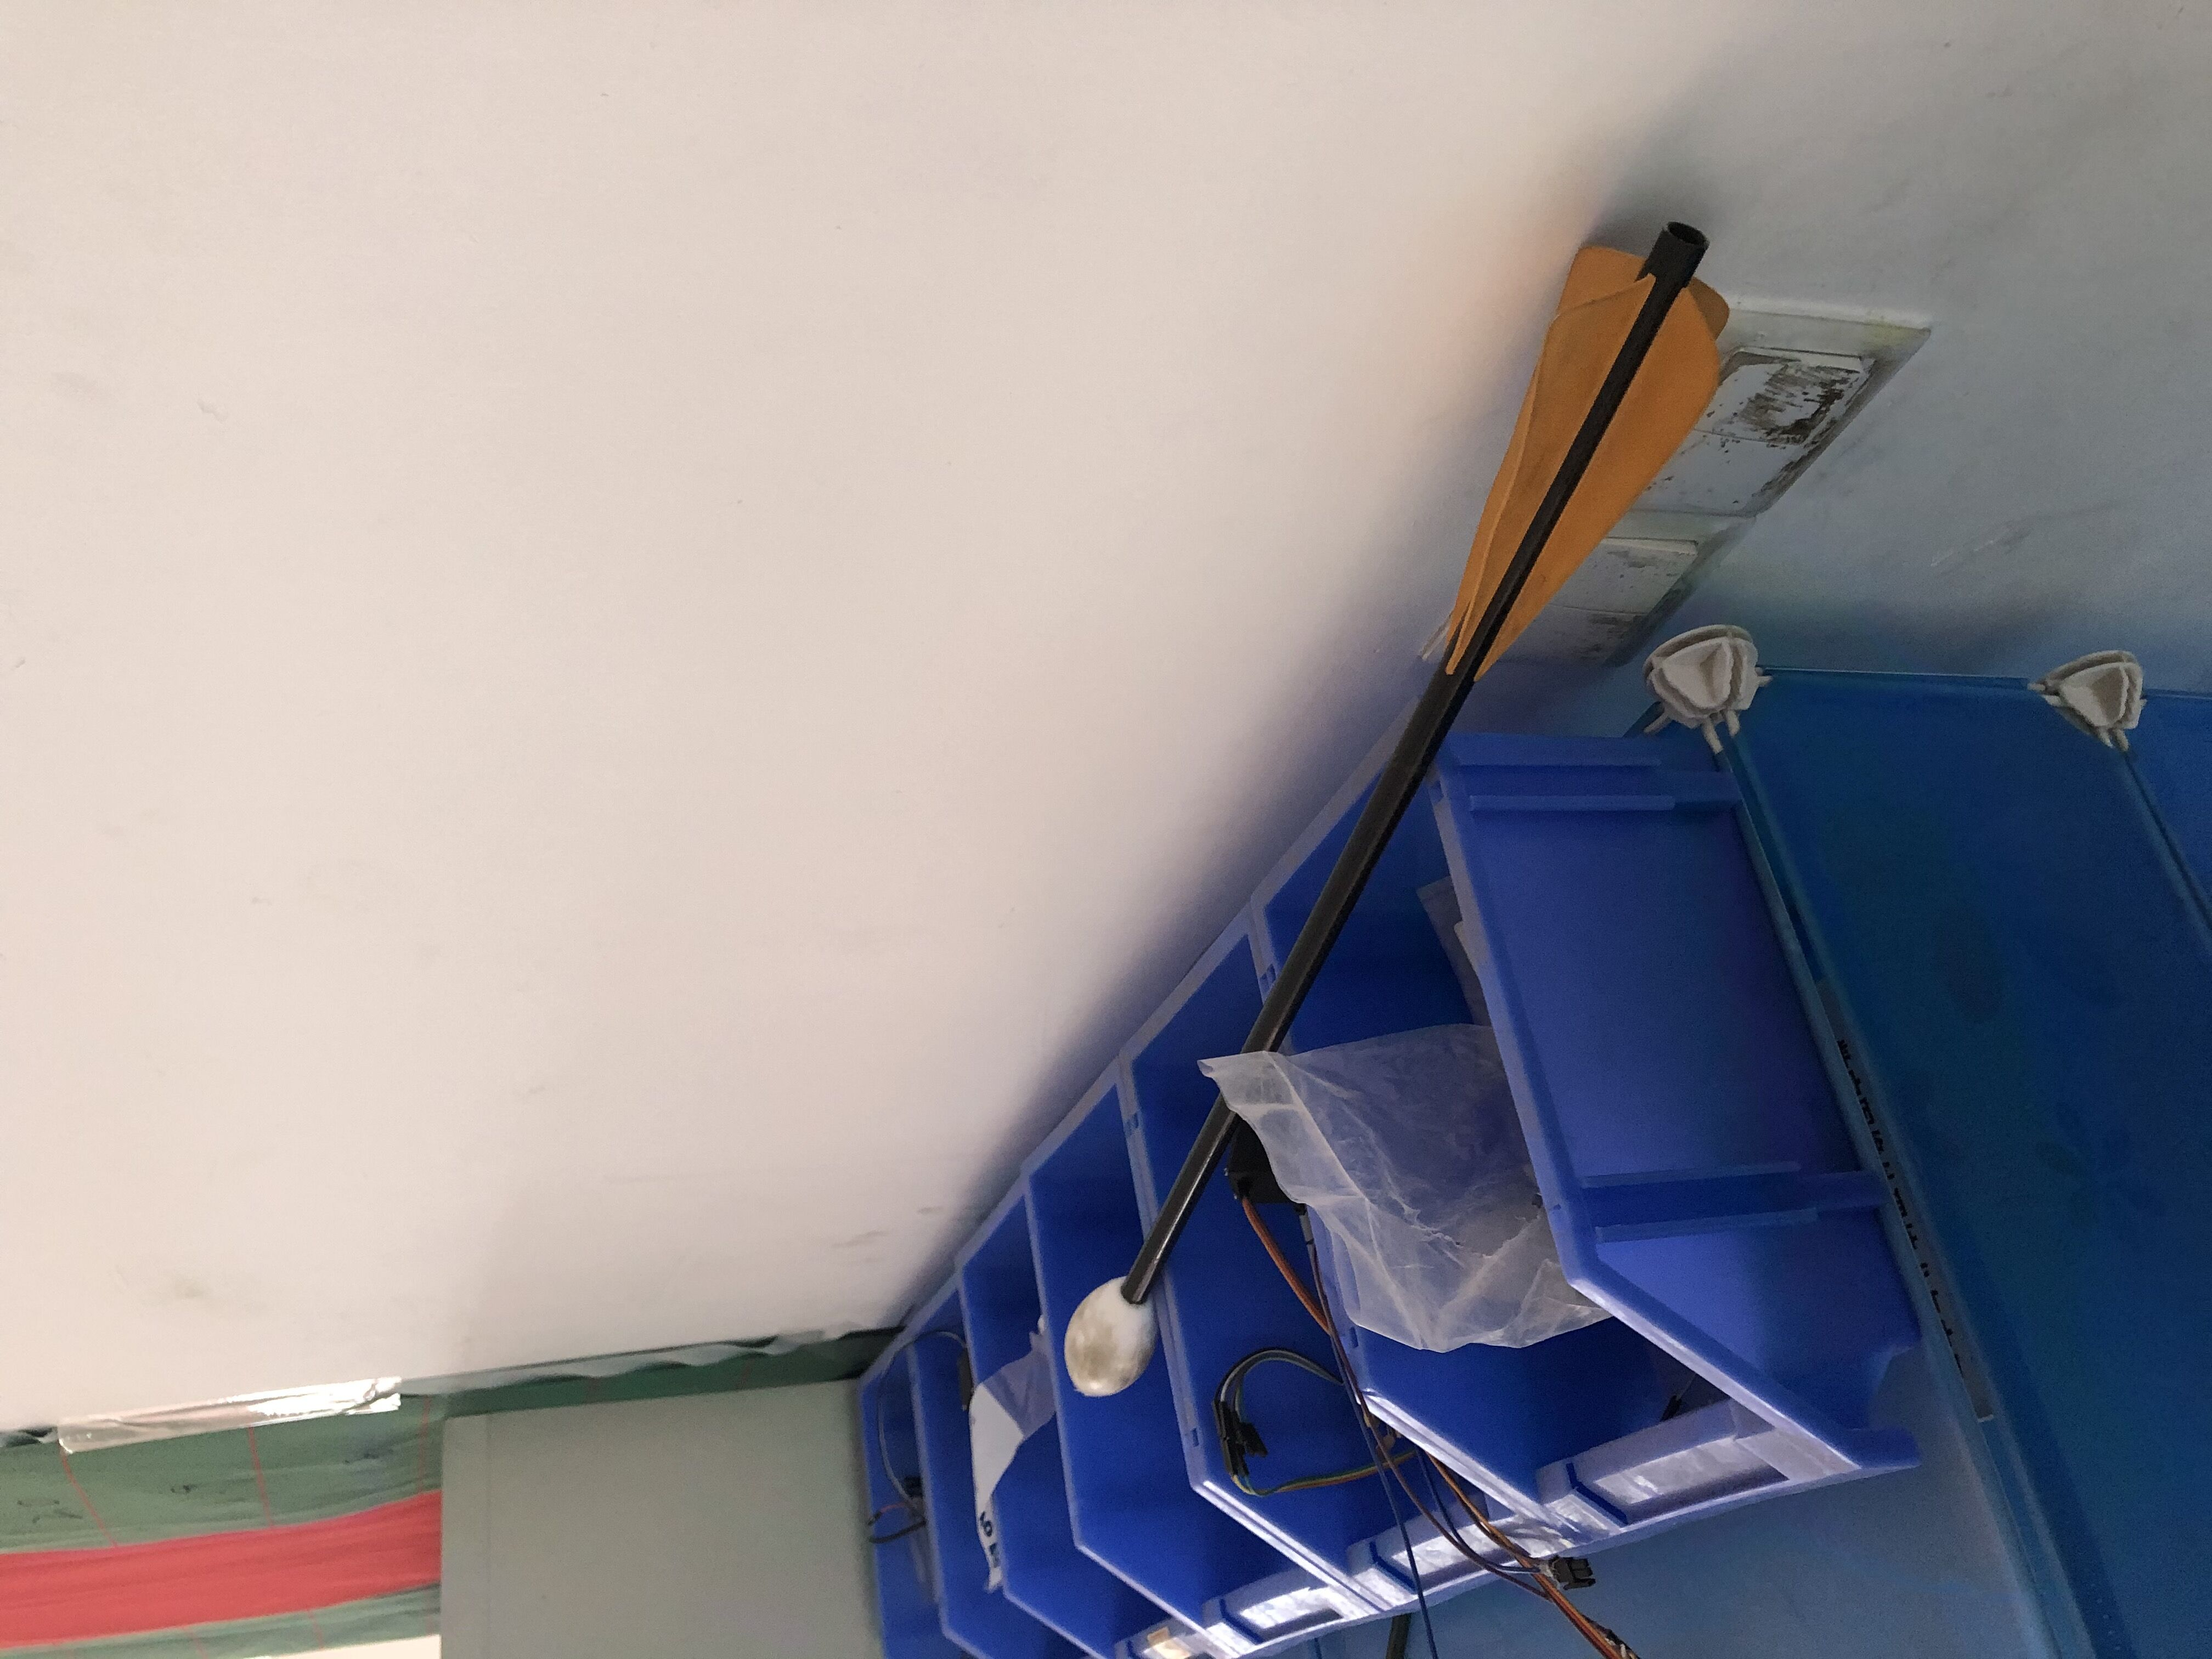arrow: (1061, 223, 1731, 1403)
arrowFront: (1057, 1269, 1157, 1403)
